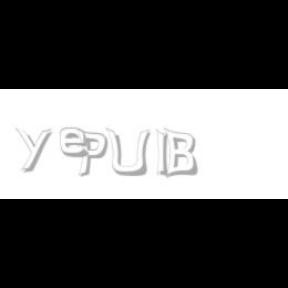B: (164, 128, 198, 178)
I: (156, 128, 170, 180)
P: (76, 128, 108, 178)
U: (104, 128, 150, 178)
e: (60, 128, 92, 158)
y: (15, 128, 55, 172)
